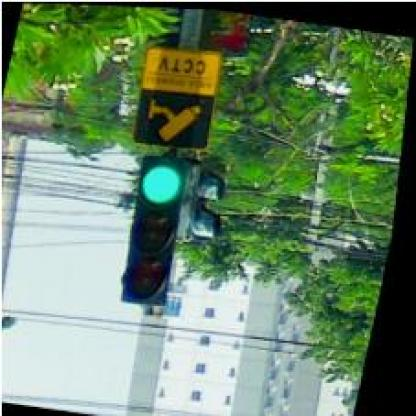green: (115, 151, 200, 307)
